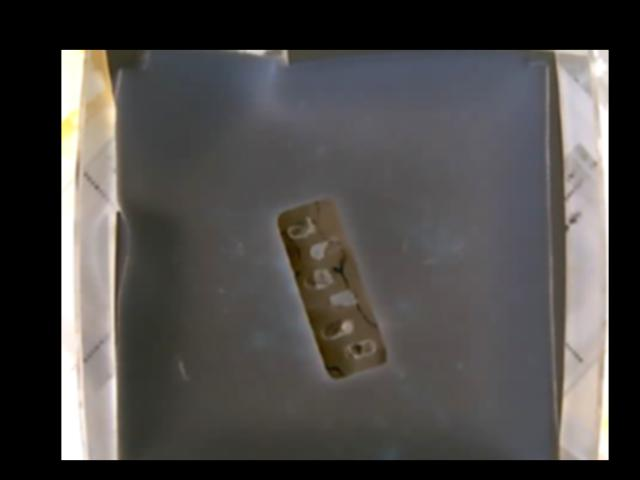Medicine: (279, 198, 385, 382)
